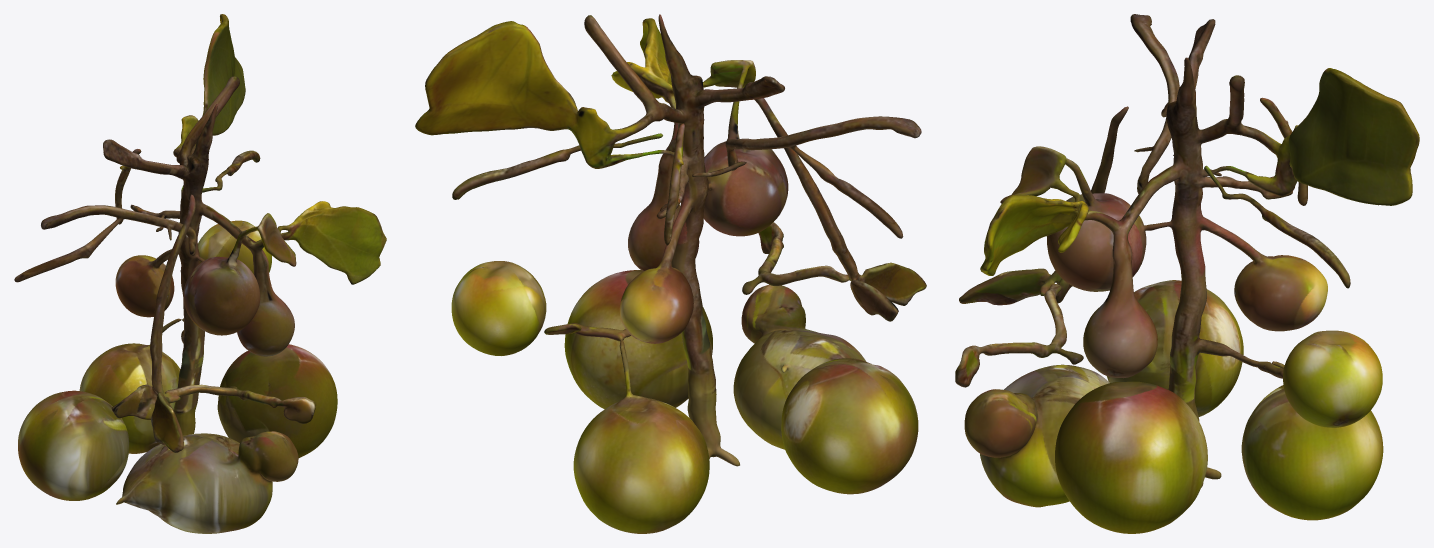
The model's file is TREE0085.gltf.
3 renders of one model, left to right at view 1: azimuth 30°, elevation 25°; view 2: azimuth 150°, elevation 25°; view 3: azimuth 270°, elevation 25°, orthographic. The views are drawn at different scales.
Visible parts, largest first — view 1: Mesh_0.061; view 2: Mesh_0.061; view 3: Mesh_0.061.
Part boxes in pixels (left/top/right/bottom): Mesh_0.061: left=14, top=14, right=386, bottom=533; Mesh_0.061: left=415, top=14, right=926, bottom=533; Mesh_0.061: left=955, top=14, right=1419, bottom=533.
Size of the model in its own units: 1.65 by 2 by 1.66.
1 material, 1 textured.
